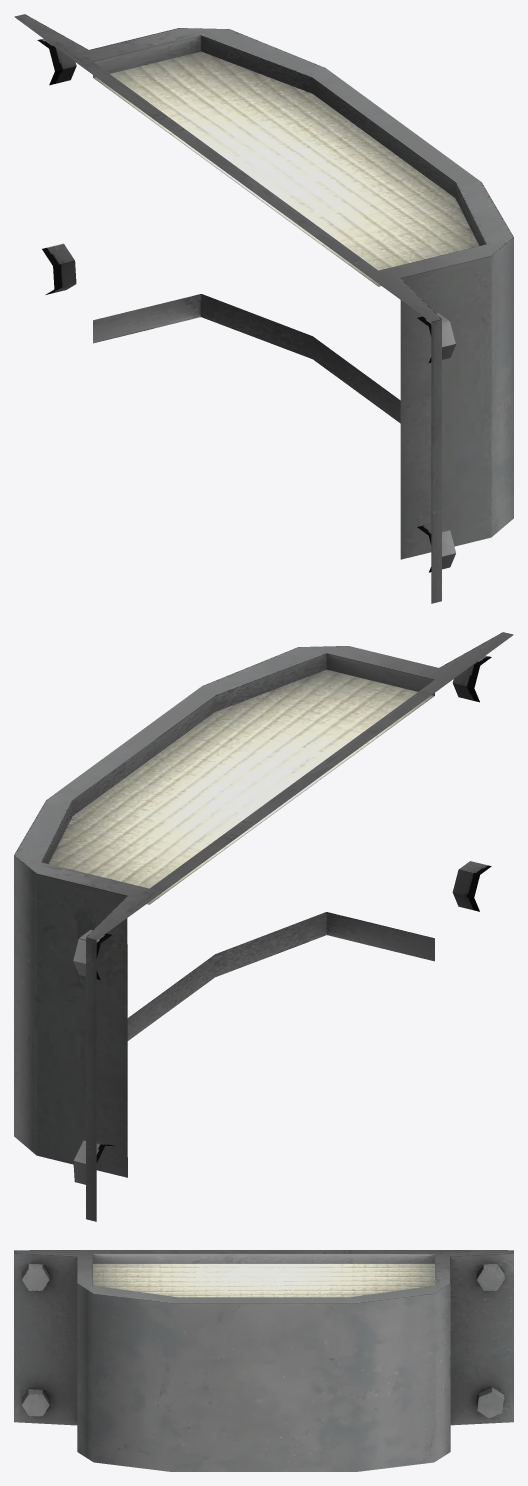
3 renders of one model, top to bottom at view 1: azimuth 30°, elevation 25°; view 2: azimuth 150°, elevation 25°; view 3: azimuth 270°, elevation 25°, orthographic. The views are drawn at different scales.
Visible parts, largest first — view 1: body0_model0_lod0_mesh0; view 2: body0_model0_lod0_mesh0; view 3: body0_model0_lod0_mesh0.
Boxes of the visible parts, box(x1,y1,x2,y2) form: body0_model0_lod0_mesh0: box(14, 14, 513, 603); body0_model0_lod0_mesh0: box(14, 632, 513, 1221); body0_model0_lod0_mesh0: box(14, 1250, 513, 1471).
Size of the model in its own units: 6.91 by 10.24 by 27.48.
Materials: 1 (1 with a texture image).
